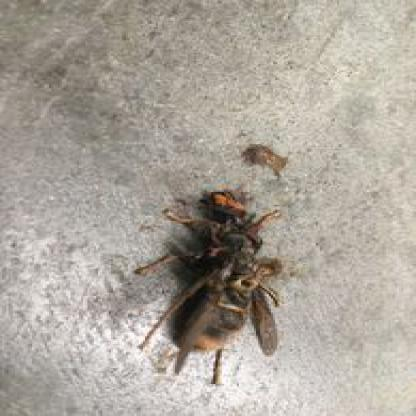Asian Hornet: (143, 174, 294, 386)
